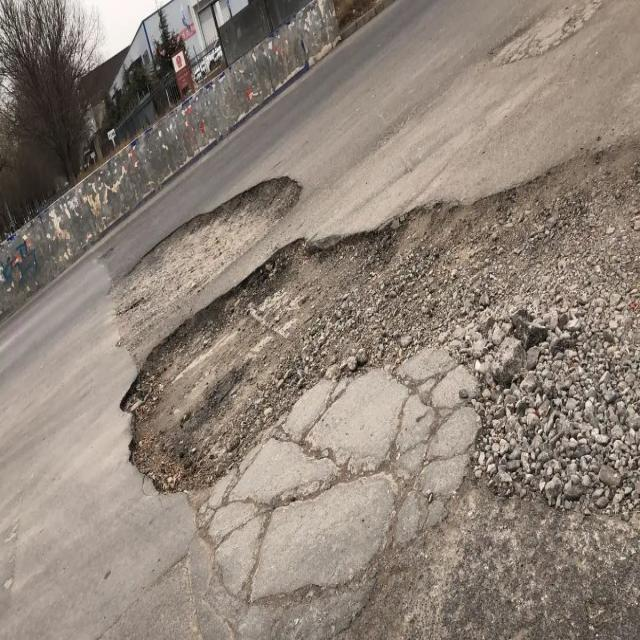Pothole: (122, 131, 640, 519), (112, 172, 305, 334), (476, 0, 613, 72), (94, 247, 115, 260)
